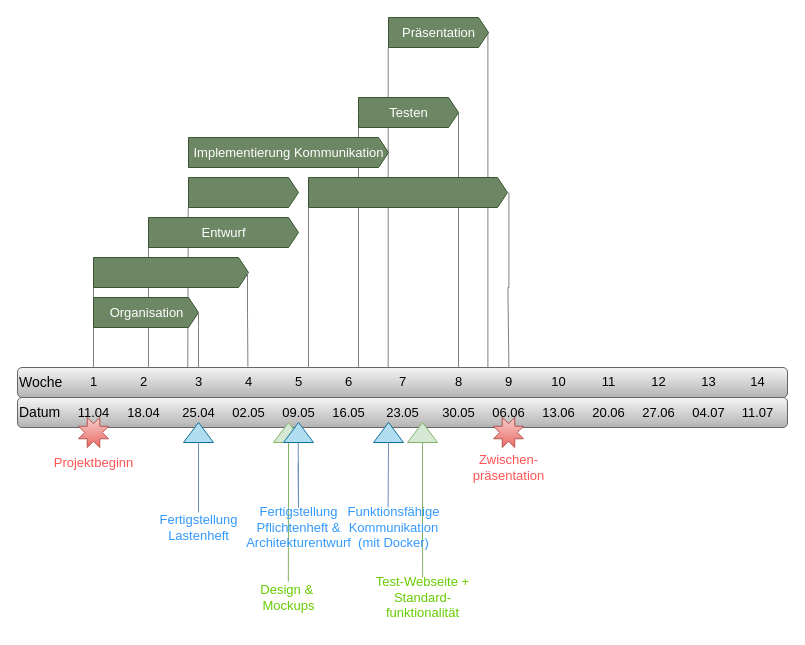
The diagram is 805 pixels wide and 645 high, and some of its shapes have lost their labels. The shapes that lost their labels are listed below. From the top down, each one's box as (x1, y1, x2, y2) in pixels, then its label:
(188, 176, 298, 208): Webseitendesign
(308, 176, 508, 208): Implementierung Webseite
(92, 256, 248, 288): Recherche
